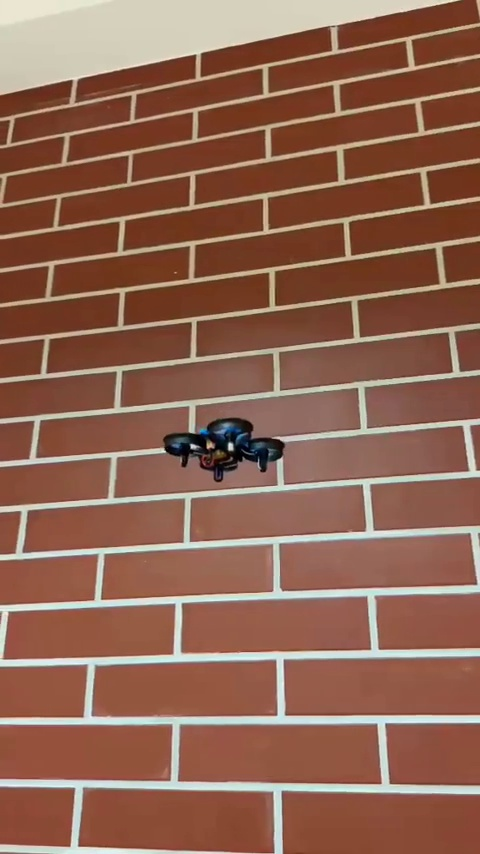drone: (164, 413, 285, 495)
